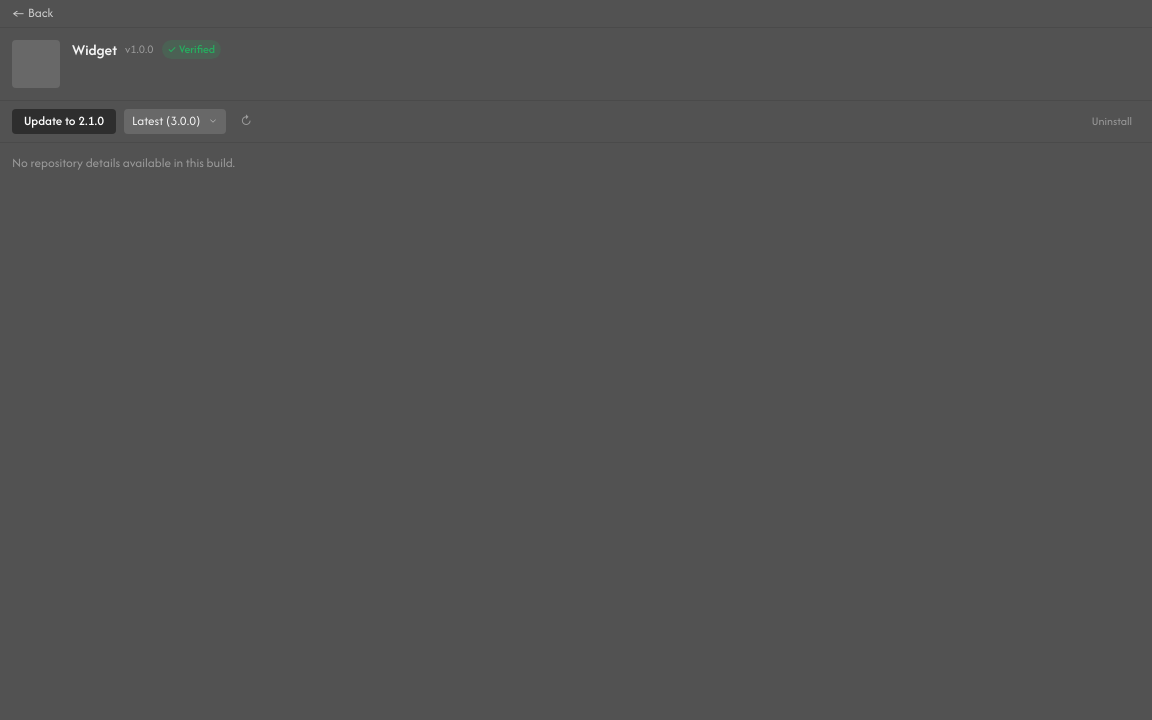
Test: ExtensionManagerPanel review of a chosen version › names a chosen version that is past the review, and stops on Cancel
Click the dropdown named "Version" at (175, 121), box [124,109,226,134]
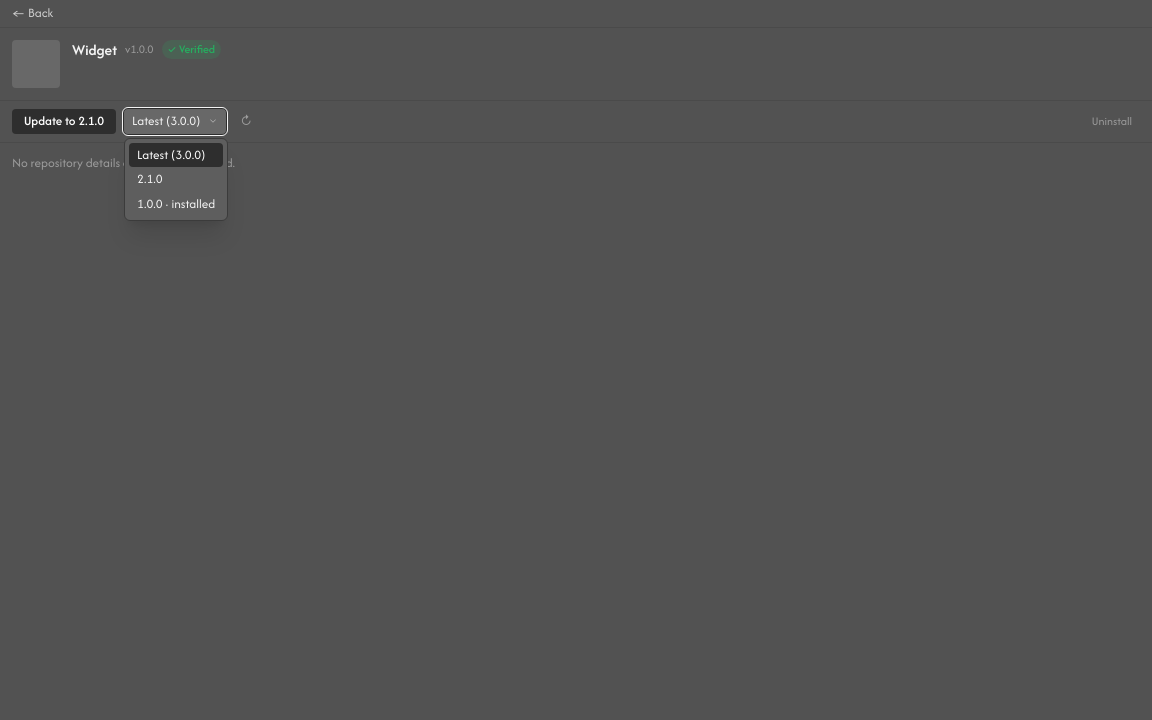
Click the option "2.1.0" at (150, 178), box [137,170,163,187]
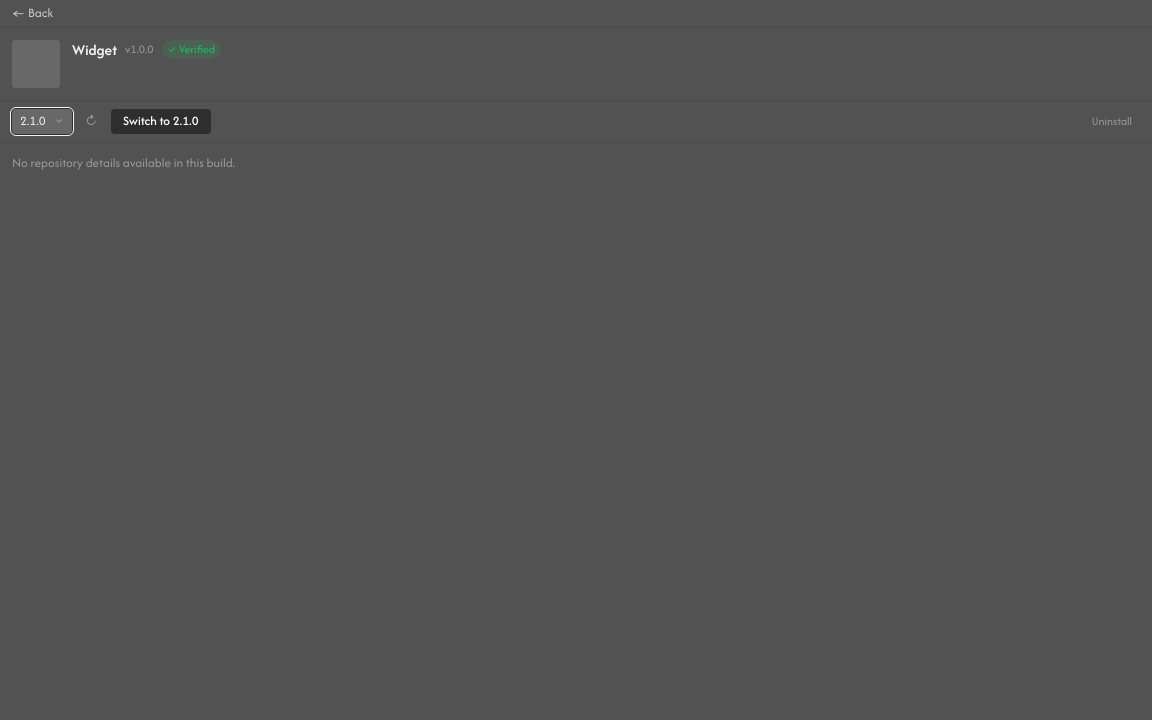
Click the button "Switch to 2.1.0" at (161, 121), box [111,109,211,134]
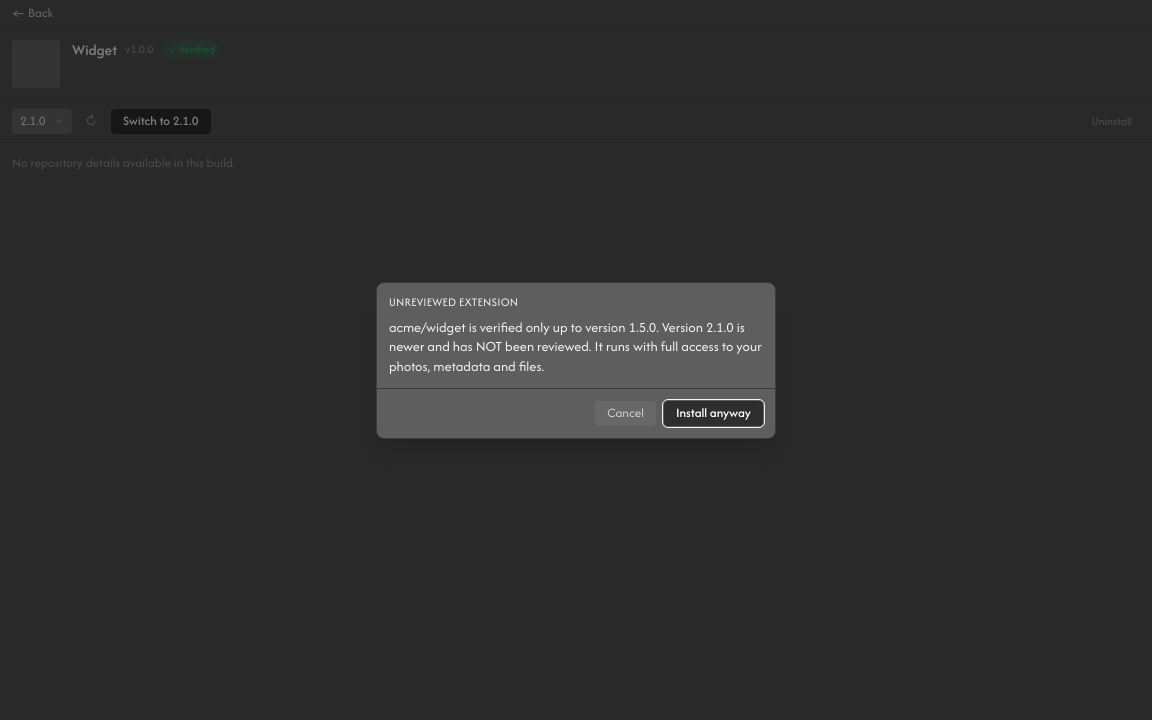
Expected: the text "verified only up to version 1.5.0. Version 2.1.0 is newer and has NOT been reviewed." is shown, [389,318,762,376]
Click the button "Cancel" at (626, 413), box [595,401,656,426]
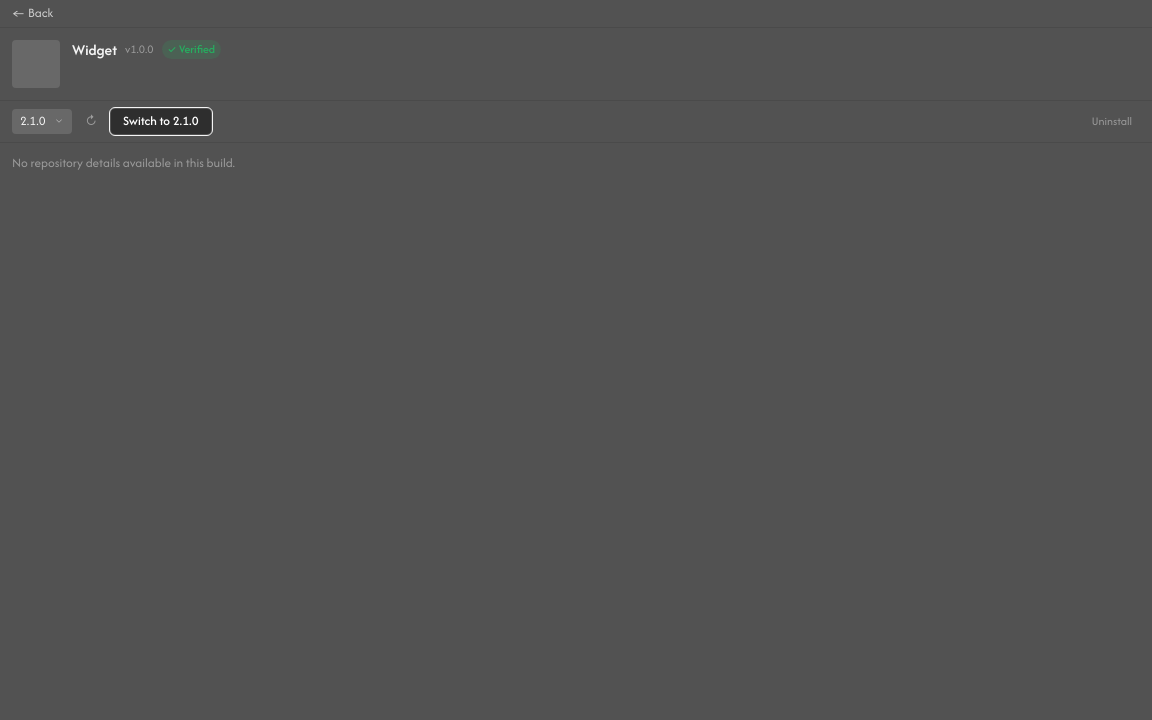
Expected: the dialog is gone
